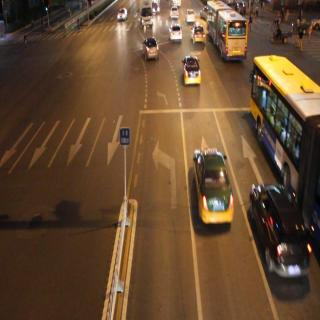BigCar: (205, 1, 251, 64), (139, 0, 158, 33)
Car: (248, 172, 306, 304), (192, 142, 237, 236), (182, 55, 202, 90), (142, 36, 161, 64), (190, 20, 207, 47), (170, 22, 185, 46), (169, 2, 181, 21), (186, 7, 195, 23)
